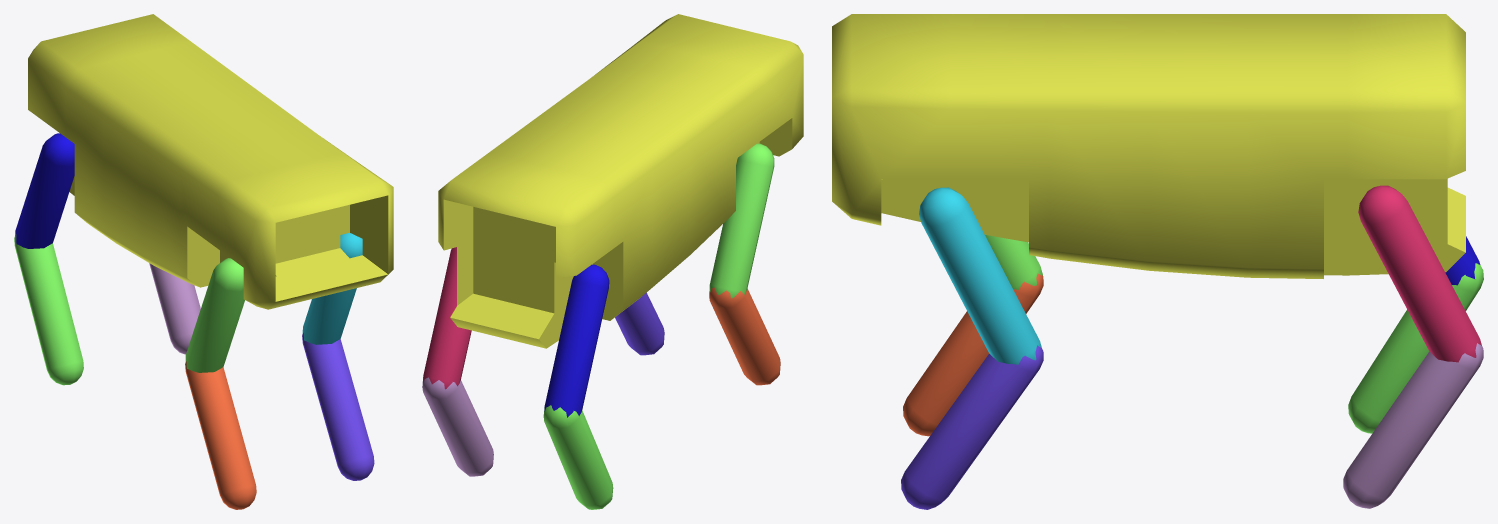
Rendered from spot.fbx.
The picture shows the model from 3 angles, left to right: view 1: azimuth 30°, elevation 25°; view 2: azimuth 150°, elevation 25°; view 3: azimuth 270°, elevation 25°; orthographic projection. The views are drawn at different scales.
Parts seen in each view (by area): view 1: body_convexhull, Capsule007, Capsule003, Capsule005, Capsule008, Capsule006, Capsule004, Capsule002; view 2: body_convexhull, Capsule008, Capsule006, Capsule005, Capsule002, Capsule007, Capsule001, Capsule003; view 3: body_convexhull, Capsule001, Capsule004, Capsule003, Capsule002, Capsule007, Capsule005, Capsule006, Capsule008.
Boxes of the visible parts, left/top/right/bottom form: body_convexhull: left=28, top=14, right=393, bottom=309; Capsule007: left=185, top=361, right=256, bottom=509; Capsule003: left=302, top=332, right=374, bottom=480; Capsule005: left=14, top=234, right=83, bottom=385; Capsule008: left=15, top=133, right=74, bottom=248; Capsule006: left=185, top=258, right=244, bottom=372; Capsule004: left=302, top=232, right=362, bottom=344; Capsule002: left=149, top=263, right=200, bottom=354; body_convexhull: left=438, top=14, right=803, bottom=348; Capsule008: left=544, top=264, right=609, bottom=417; Capsule006: left=709, top=143, right=774, bottom=298; Capsule005: left=543, top=405, right=613, bottom=509; Capsule002: left=422, top=377, right=493, bottom=476; Capsule007: left=709, top=287, right=780, bottom=385; Capsule001: left=423, top=247, right=471, bottom=389; Capsule003: left=615, top=292, right=664, bottom=355; body_convexhull: left=832, top=14, right=1465, bottom=278; Capsule001: left=1358, top=185, right=1481, bottom=362; Capsule004: left=919, top=187, right=1041, bottom=364; Capsule003: left=901, top=345, right=1043, bottom=509; Capsule002: left=1343, top=343, right=1483, bottom=508; Capsule007: left=903, top=273, right=1043, bottom=436; Capsule005: left=1348, top=263, right=1483, bottom=433; Capsule006: left=985, top=235, right=1042, bottom=289; Capsule008: left=1445, top=236, right=1480, bottom=285.
Bounding box in the file's own units: 452 × 1253 × 892.
